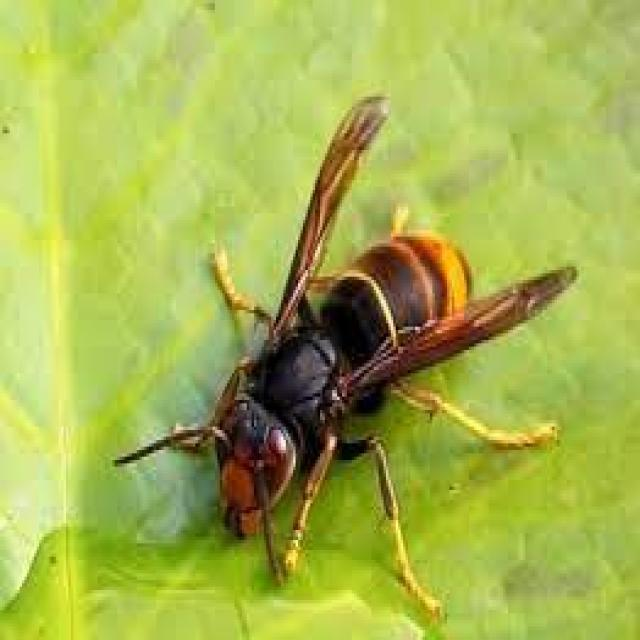-: (123, 89, 563, 622)
